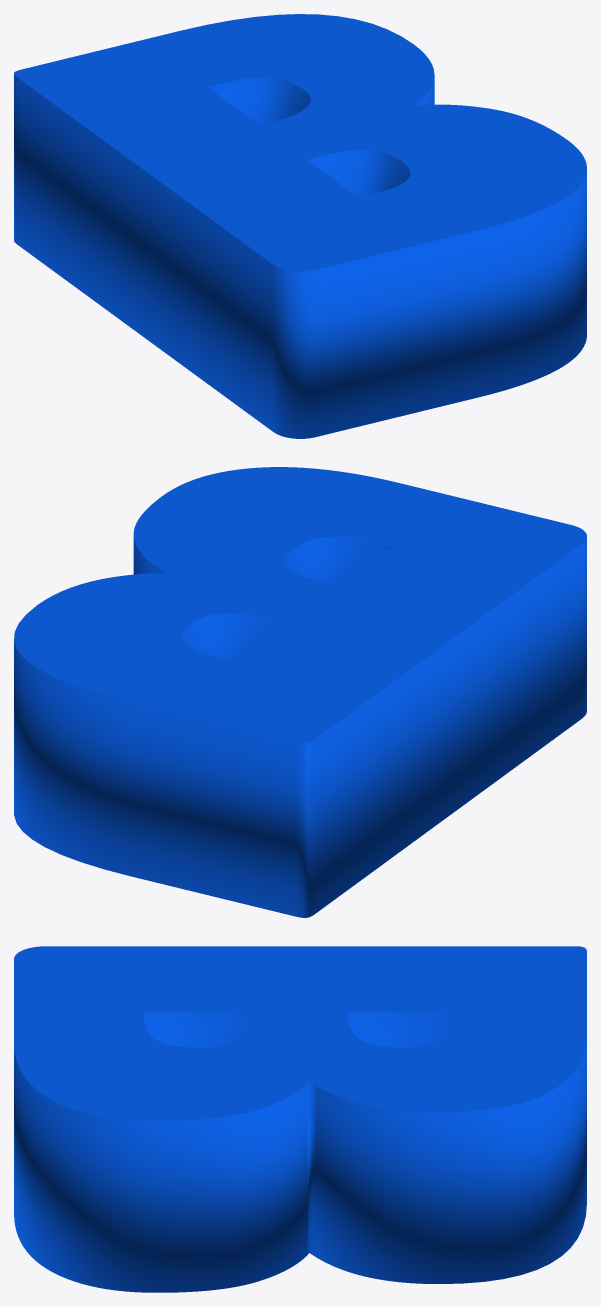
3 views of the same model, one above another, from view 1: azimuth 30°, elevation 25°; view 2: azimuth 150°, elevation 25°; view 3: azimuth 270°, elevation 25° (orthographic). The views are drawn at different scales.
Parts seen in each view (by area): view 1: b; view 2: b; view 3: b.
Boxes of the visible parts, x1,y1,x2,y2 form: b: (14, 14, 586, 438); b: (14, 467, 586, 917); b: (14, 946, 586, 1292).
Bounding box in the file's own units: 0.2519 × 0.1156 × 0.3492.
